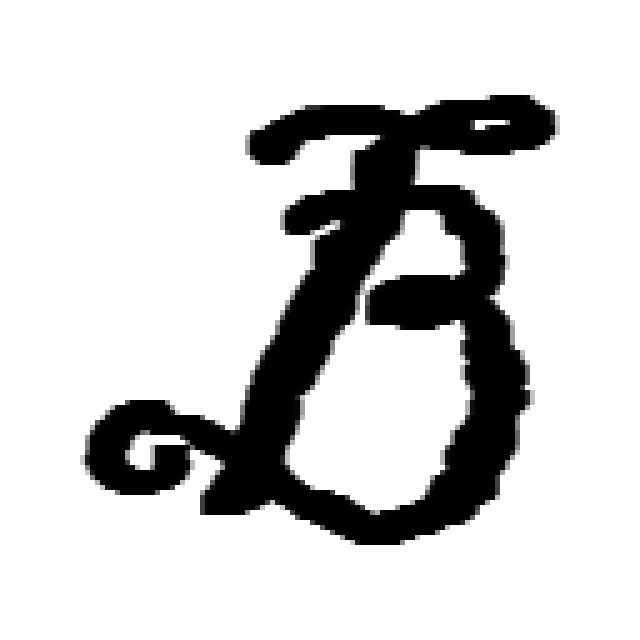B: (85, 95, 560, 550)
